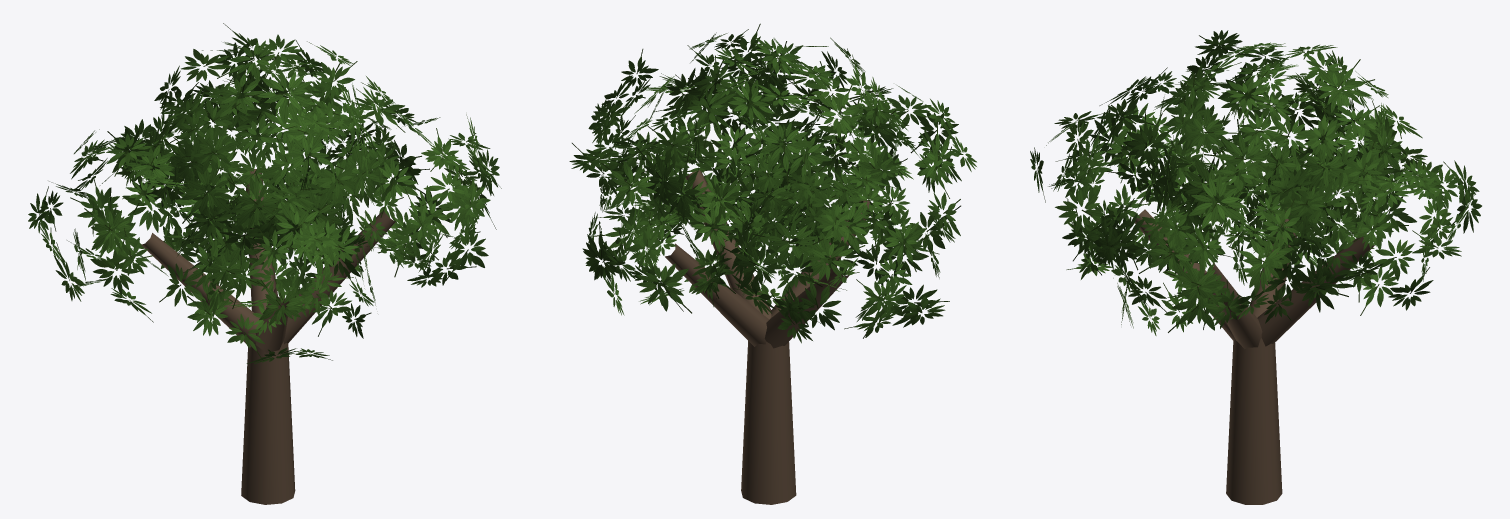
File: oak.glb
The picture shows the model from 3 angles, left to right: view 1: azimuth 30°, elevation 25°; view 2: azimuth 150°, elevation 25°; view 3: azimuth 270°, elevation 25°; orthographic projection. The views are drawn at different scales.
Parts seen in each view (by area): view 1: Oak; view 2: Oak; view 3: Oak.
Boxes of the visible parts, left/top/right/bottom form: Oak: left=28, top=23, right=501, bottom=504; Oak: left=569, top=23, right=976, bottom=504; Oak: left=1030, top=30, right=1481, bottom=504.
Bounding box in the file's own units: 7.82 × 8.24 × 7.56.
Materials: 2 (1 with a texture image).
